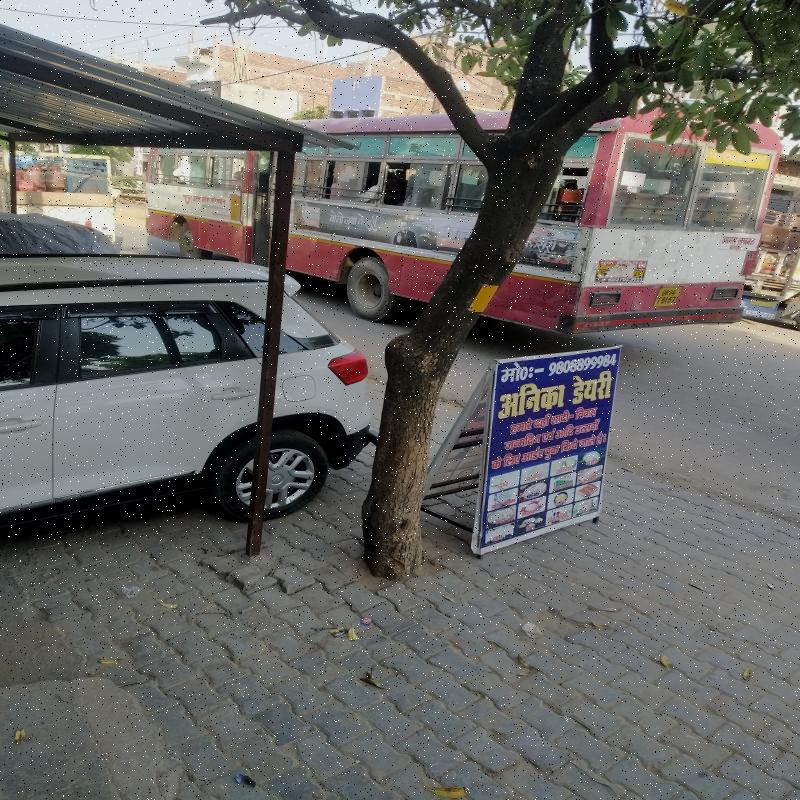bus: (145, 110, 770, 340)
